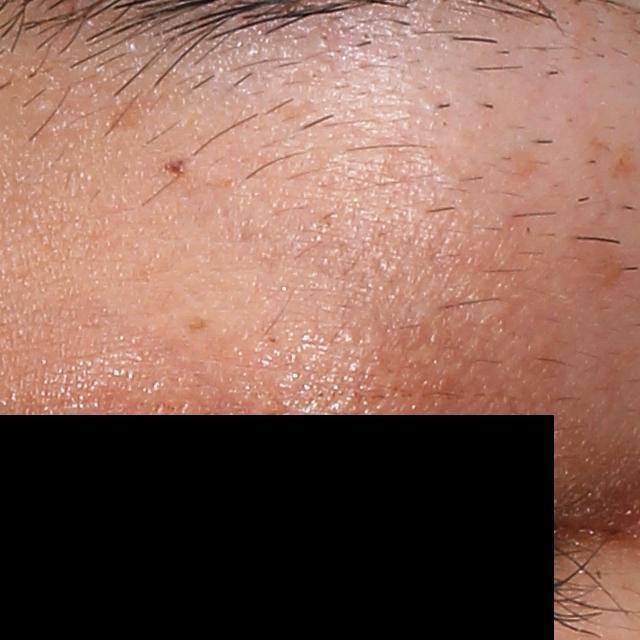melasma: (613, 147, 638, 178)
nevus: (161, 158, 186, 173)
